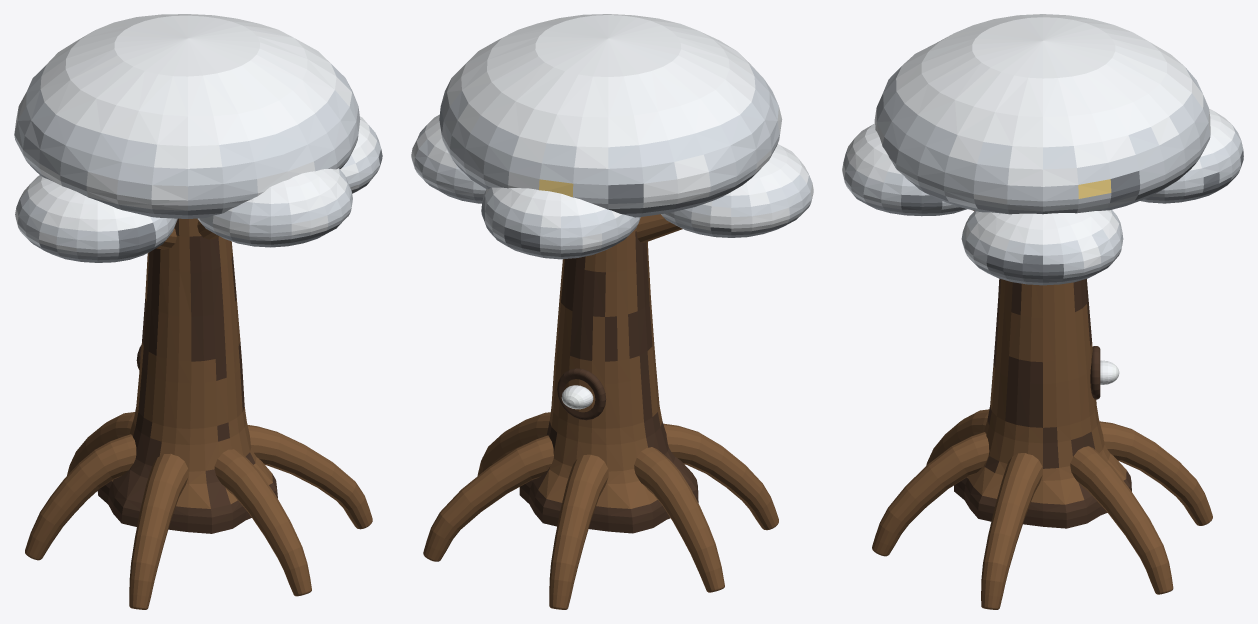
File: AetherheartTree.obj
The picture shows the model from 3 angles, left to right: view 1: azimuth 30°, elevation 25°; view 2: azimuth 150°, elevation 25°; view 3: azimuth 270°, elevation 25°; orthographic projection.
Bounding box in the file's own units: 10.69 × 14.27 × 10.42.
